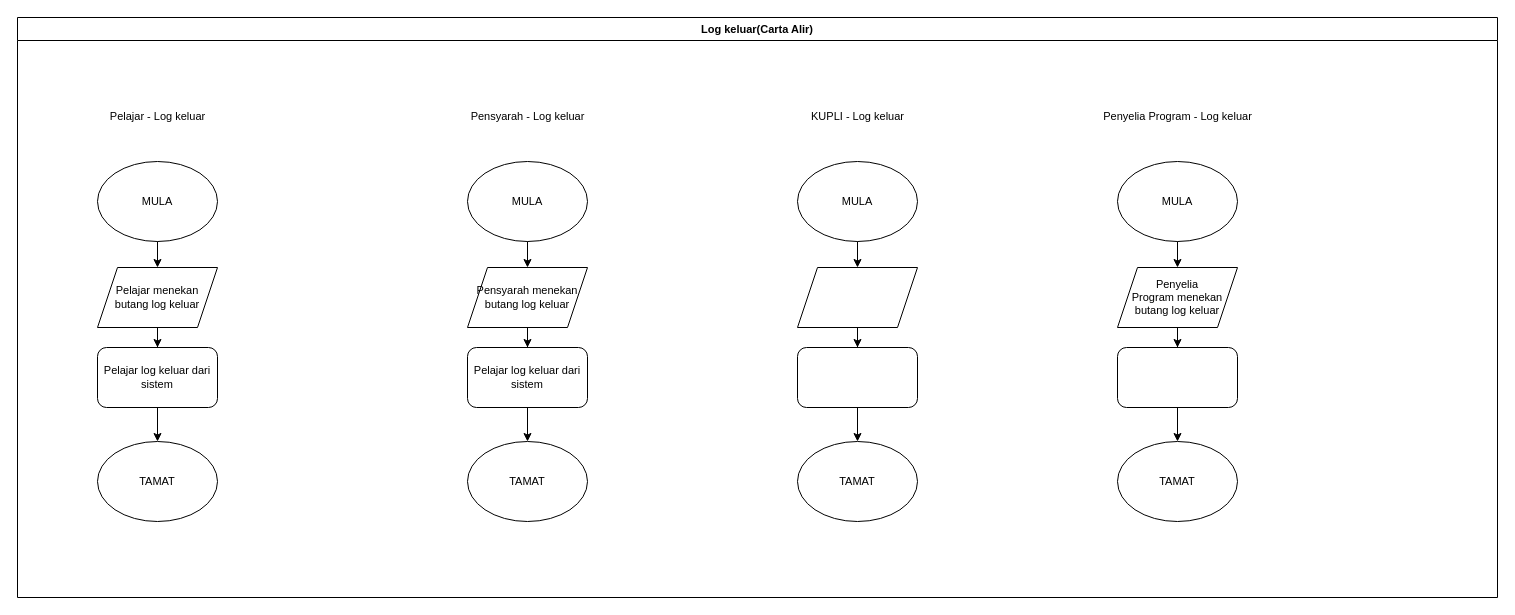
Image size: 1515x615. Some labels were removed from this diagram. The centre of each missing label's shape, as x and y in pixels:
KUPLI log keluar dari sistem: point (857, 377)
KUPLI menekan butang log keluar: point (857, 297)
Penyelia Program log keluar dari sistem: point (1177, 377)
